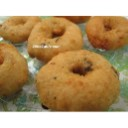vada: (37, 51, 119, 110), (29, 19, 85, 56), (1, 41, 29, 97), (89, 18, 128, 47), (1, 18, 42, 40)
